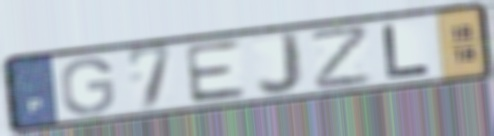7: (125, 42, 175, 116)
E: (181, 38, 250, 106)
G: (58, 55, 118, 117)
J: (254, 30, 306, 98)
L: (378, 22, 435, 81)
Z: (308, 22, 374, 92)
